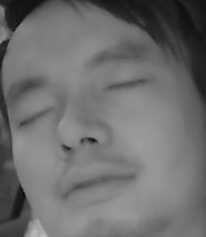blink: (16, 106, 57, 127), (104, 78, 143, 98)
mouth: (57, 159, 135, 205)
